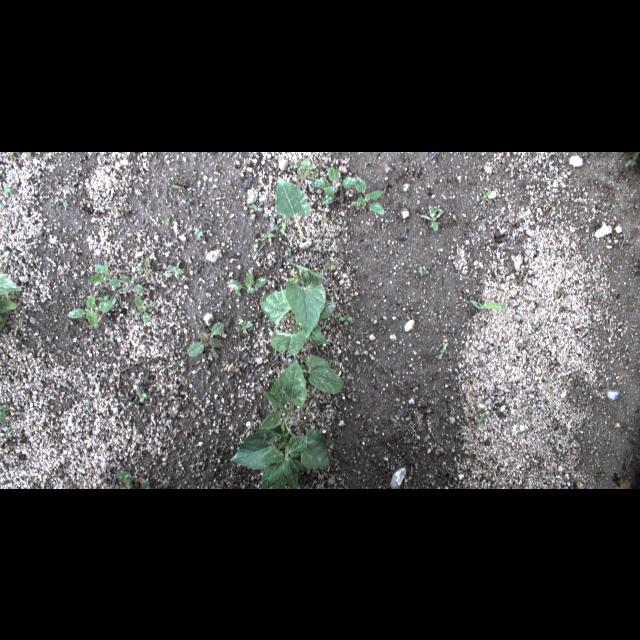crop: (230, 354, 344, 488), (260, 258, 336, 356), (274, 174, 310, 242), (0, 270, 24, 312)
weed: (310, 166, 358, 204), (66, 294, 116, 326), (186, 322, 224, 360), (352, 174, 384, 213), (226, 270, 268, 296), (88, 262, 122, 288), (420, 206, 444, 228), (135, 296, 155, 320), (292, 158, 316, 178), (121, 273, 143, 291), (469, 300, 506, 310), (164, 260, 184, 278), (168, 175, 186, 193), (115, 472, 135, 488), (138, 256, 150, 276), (338, 313, 354, 327), (623, 152, 639, 166), (160, 210, 174, 226), (552, 285, 568, 299), (236, 322, 254, 334), (270, 215, 282, 231), (513, 274, 529, 286), (0, 403, 10, 422), (0, 314, 12, 328), (438, 342, 449, 356), (138, 392, 150, 404), (479, 188, 491, 200), (546, 205, 556, 219), (260, 231, 276, 239), (474, 412, 484, 422), (248, 204, 264, 210), (4, 184, 16, 192), (141, 479, 151, 488), (59, 198, 70, 206), (326, 260, 332, 272), (195, 228, 203, 236), (446, 291, 452, 301), (98, 294, 108, 300), (1, 202, 8, 210), (284, 248, 292, 255), (434, 203, 441, 210), (322, 214, 328, 222), (252, 244, 258, 252), (419, 264, 423, 276), (292, 170, 298, 177), (24, 152, 34, 156), (424, 265, 428, 275), (412, 386, 418, 392), (518, 342, 524, 348), (90, 377, 96, 383), (588, 290, 592, 298), (287, 164, 293, 168), (323, 321, 327, 327), (26, 392, 29, 398), (115, 484, 119, 488), (551, 152, 557, 154)
